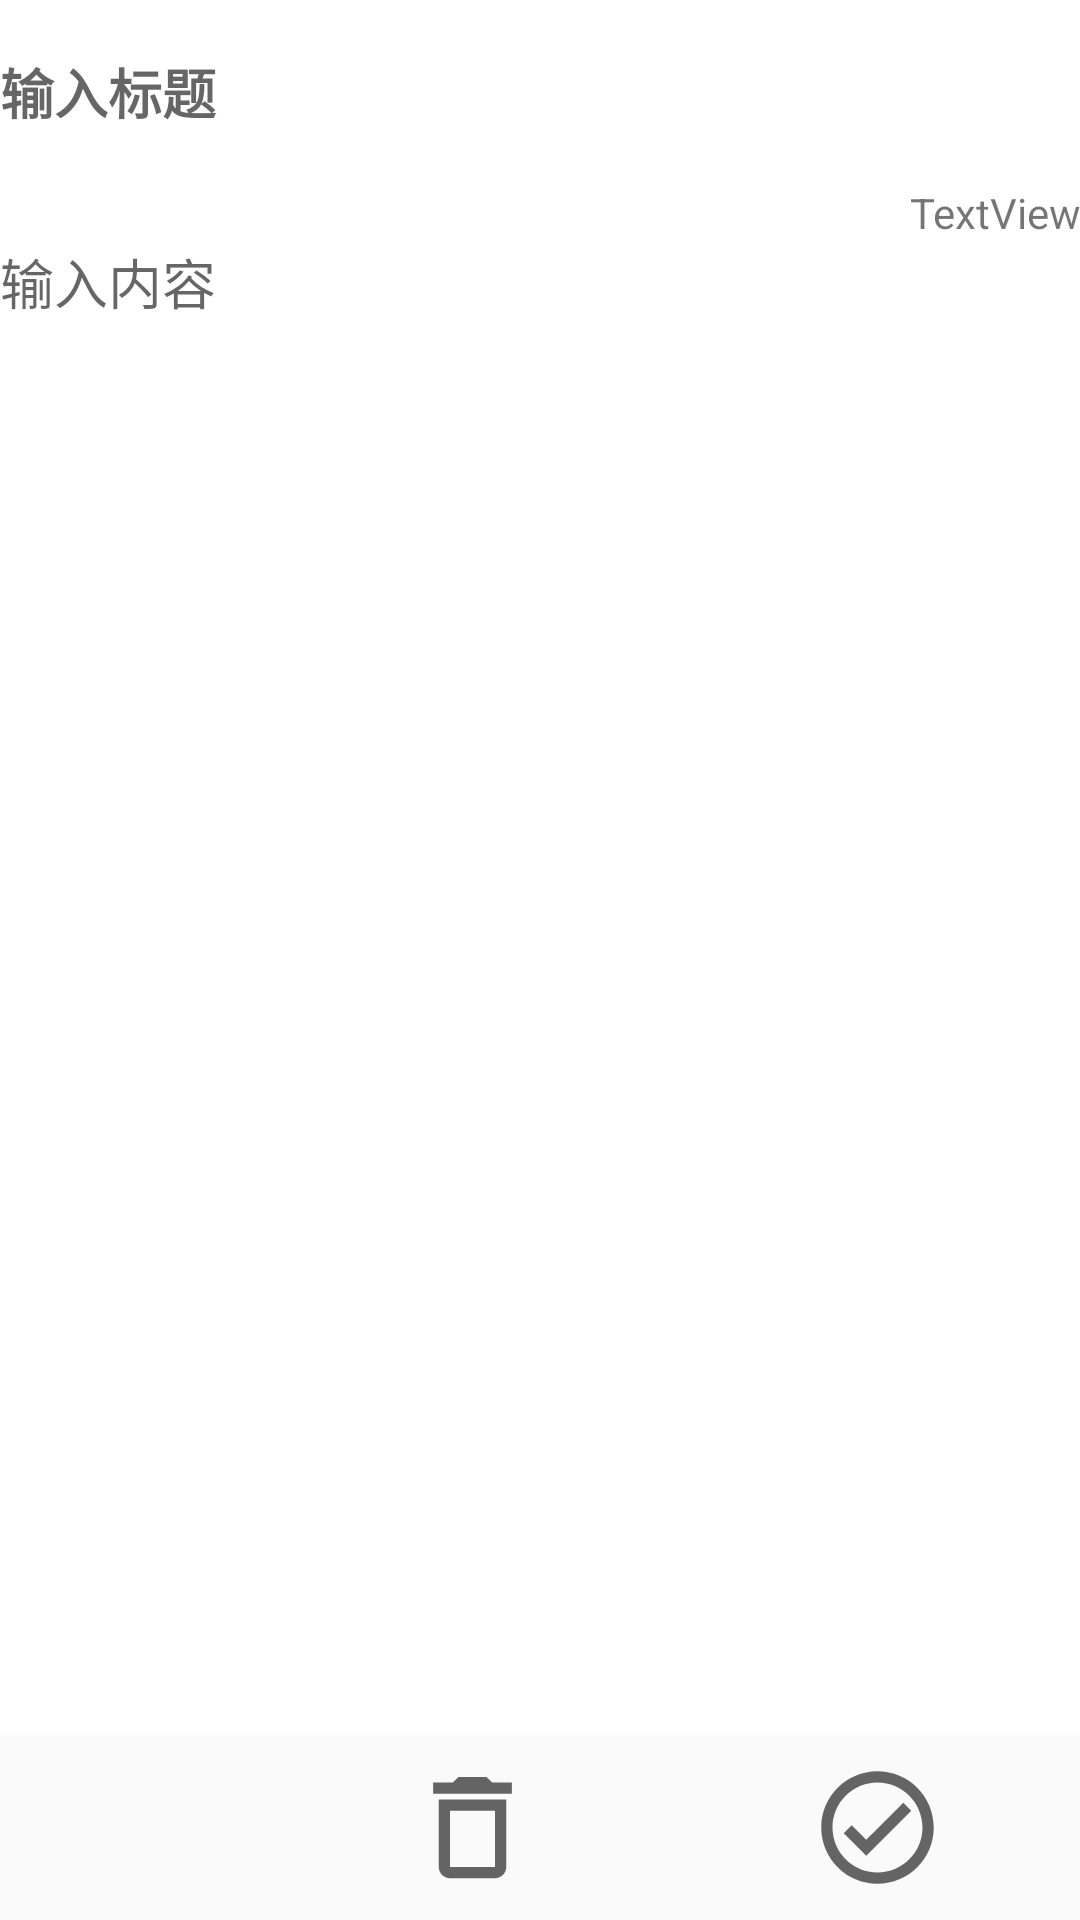

Point at icon controls on the screen. Image size 1080 x 1920, points as (x=x, y=y).
check circle: (x=877, y=1827)
delete: (x=472, y=1828)
